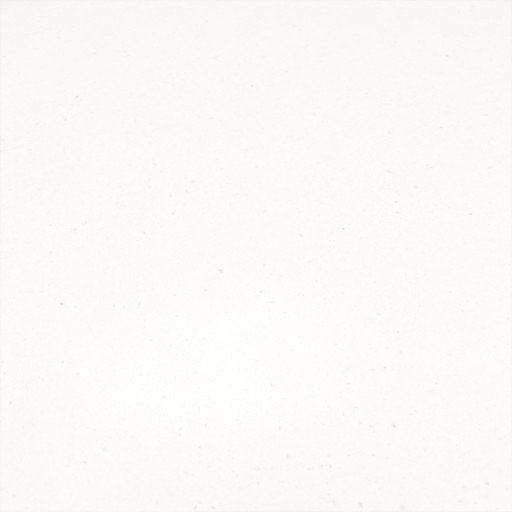lego: (208, 206, 300, 306)
